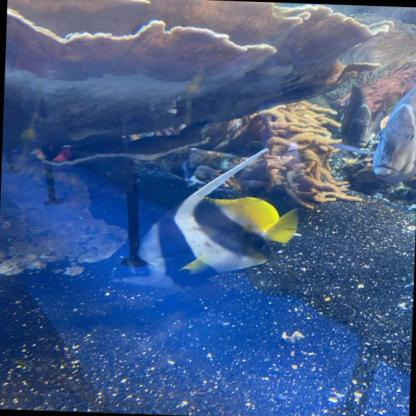fish: (112, 193, 300, 295), (371, 66, 415, 183)
